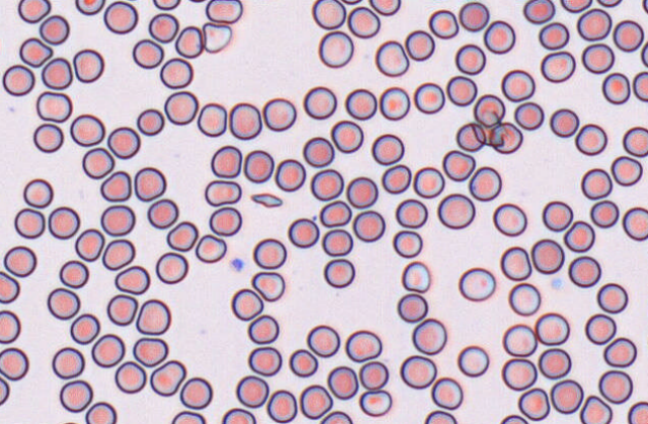PLT: (230, 258, 245, 273), (552, 276, 565, 289)
RBC: (149, 359, 186, 396), (437, 193, 475, 229), (135, 298, 171, 335), (411, 317, 446, 355), (318, 30, 353, 68), (399, 354, 436, 389), (374, 40, 409, 76), (458, 267, 495, 301), (228, 102, 262, 139), (598, 369, 633, 404), (345, 329, 382, 362), (103, 0, 138, 34), (492, 202, 527, 236), (164, 90, 198, 125), (501, 357, 537, 390), (531, 238, 564, 274), (91, 333, 125, 367), (262, 97, 296, 131), (299, 384, 332, 419), (502, 323, 537, 356), (550, 379, 583, 414), (534, 312, 569, 345), (468, 166, 501, 201), (133, 166, 166, 201), (70, 113, 105, 146), (35, 91, 72, 122), (235, 375, 269, 408), (306, 324, 340, 357), (330, 119, 363, 153), (100, 204, 135, 236), (576, 8, 611, 40), (540, 50, 575, 82), (59, 379, 92, 412), (517, 387, 550, 420), (430, 376, 463, 409), (51, 346, 84, 379), (179, 376, 212, 409), (155, 251, 188, 284), (107, 126, 140, 159), (303, 86, 336, 119), (508, 282, 540, 316), (473, 93, 505, 127), (252, 237, 286, 269), (483, 20, 515, 54), (501, 69, 535, 101), (159, 57, 193, 89), (72, 48, 104, 82), (132, 337, 168, 367), (489, 121, 522, 153), (114, 360, 146, 393), (102, 238, 135, 270), (538, 347, 571, 379), (352, 210, 385, 242), (442, 149, 475, 181), (47, 287, 80, 319), (310, 168, 343, 200), (210, 145, 242, 178), (568, 255, 601, 287), (3, 245, 36, 277), (347, 6, 380, 38), (371, 133, 404, 165), (574, 123, 607, 155), (344, 88, 377, 120), (266, 389, 297, 423), (327, 365, 358, 399), (500, 246, 531, 280), (243, 149, 274, 183), (379, 86, 410, 120), (247, 346, 282, 376), (197, 102, 227, 137), (114, 265, 150, 294), (231, 288, 263, 320), (457, 345, 489, 377), (563, 220, 595, 252), (82, 147, 114, 179), (2, 64, 34, 96), (346, 176, 378, 208), (612, 19, 644, 51), (274, 158, 305, 191), (48, 206, 79, 239), (251, 271, 285, 301), (311, 0, 346, 29), (204, 179, 241, 206), (166, 220, 198, 251), (584, 313, 616, 344), (287, 217, 319, 248), (106, 293, 137, 325), (413, 166, 444, 198), (596, 282, 628, 313), (541, 200, 573, 231), (302, 136, 334, 167), (580, 168, 612, 199), (41, 57, 72, 89), (413, 82, 444, 114), (74, 228, 104, 261), (19, 37, 52, 67), (603, 337, 636, 367), (581, 43, 614, 73), (100, 170, 131, 201), (14, 207, 45, 238), (611, 155, 642, 186), (446, 75, 477, 106), (454, 43, 485, 74), (323, 258, 355, 288), (247, 314, 279, 344), (202, 21, 232, 53), (395, 198, 427, 228), (209, 206, 241, 236), (404, 29, 434, 61), (174, 25, 203, 58), (195, 233, 226, 263), (70, 313, 100, 344), (455, 121, 486, 151), (147, 198, 178, 228), (39, 14, 69, 45), (132, 38, 163, 68), (458, 1, 489, 31), (401, 260, 430, 292), (601, 72, 630, 104), (579, 395, 612, 423), (0, 347, 28, 380), (381, 164, 411, 194), (148, 13, 178, 43), (23, 178, 53, 208), (428, 9, 458, 39), (319, 199, 351, 227), (321, 228, 353, 256), (359, 389, 392, 416), (622, 206, 647, 241), (359, 360, 388, 390), (397, 293, 427, 322), (288, 348, 318, 377), (392, 229, 422, 258), (59, 259, 89, 288), (514, 101, 544, 130), (33, 123, 63, 152), (549, 108, 579, 137), (538, 21, 569, 49), (205, 0, 242, 23), (590, 199, 619, 228), (622, 126, 647, 157), (17, 0, 50, 23), (136, 108, 164, 135), (523, 0, 555, 23), (85, 401, 116, 423), (0, 309, 20, 343), (0, 270, 19, 303), (221, 407, 256, 423), (369, 0, 400, 15), (424, 409, 457, 423), (632, 71, 647, 101), (75, 0, 105, 15), (319, 410, 353, 423), (171, 410, 205, 423), (627, 401, 647, 423), (560, 0, 592, 12), (152, 0, 180, 10), (0, 376, 9, 405), (499, 414, 528, 423), (640, 40, 647, 67), (596, 0, 622, 7), (341, 0, 362, 4), (642, 0, 648, 13), (57, 421, 80, 424), (187, 0, 207, 3)
Schistocyte: (250, 191, 283, 209)
